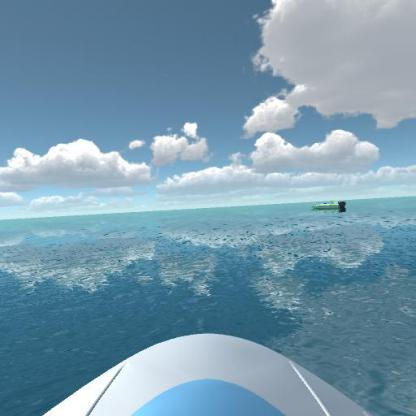usv0: (308, 197, 350, 215)
